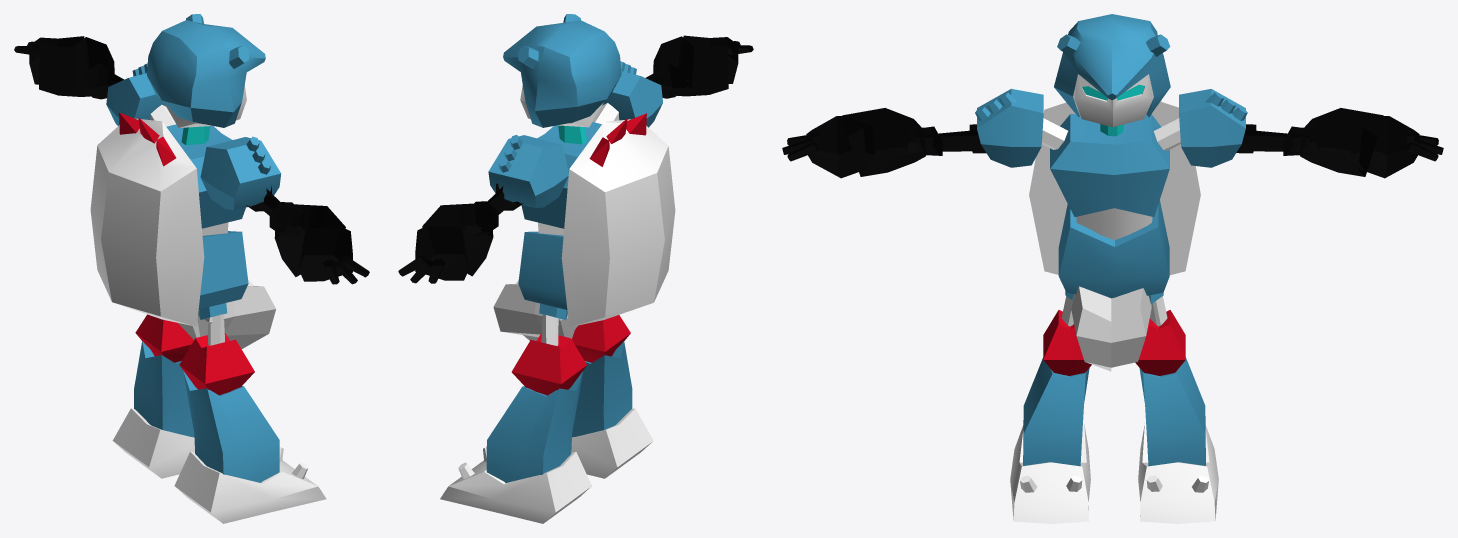
Rendered from Reptile1.fbx.
3 renders of one model, left to right at view 1: azimuth 30°, elevation 25°; view 2: azimuth 150°, elevation 25°; view 3: azimuth 270°, elevation 25°, orthographic. The views are drawn at different scales.
Visible parts, largest first — view 1: Cube.032, Cube.030; view 2: Cube.032, Cube.030; view 3: Cube.032, Cube.030.
Boxes of the visible parts, x1,y1,x2,y2 form: Cube.032: (14, 14, 369, 523); Cube.030: (178, 279, 275, 348); Cube.032: (398, 14, 753, 523); Cube.030: (493, 280, 578, 340); Cube.032: (782, 14, 1443, 523); Cube.030: (1071, 286, 1151, 371).
Size of the model in its own units: 182 by 437 by 564.
